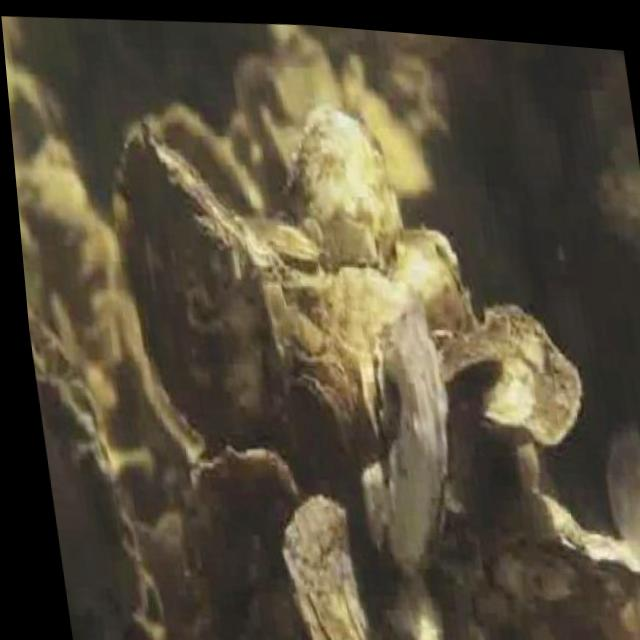Oyster-Closed: (393, 227, 477, 334), (359, 342, 396, 450), (383, 576, 444, 640), (247, 214, 324, 261), (576, 533, 640, 584), (620, 590, 640, 640)
Oyster-Indeterminate: (22, 251, 177, 640), (121, 121, 278, 446), (278, 101, 404, 275), (436, 306, 584, 447), (376, 312, 447, 585), (280, 492, 389, 640), (195, 444, 304, 585), (295, 269, 409, 380), (153, 102, 266, 210), (276, 372, 358, 506), (489, 542, 621, 618), (358, 93, 444, 195), (278, 36, 345, 109), (242, 60, 290, 135)
